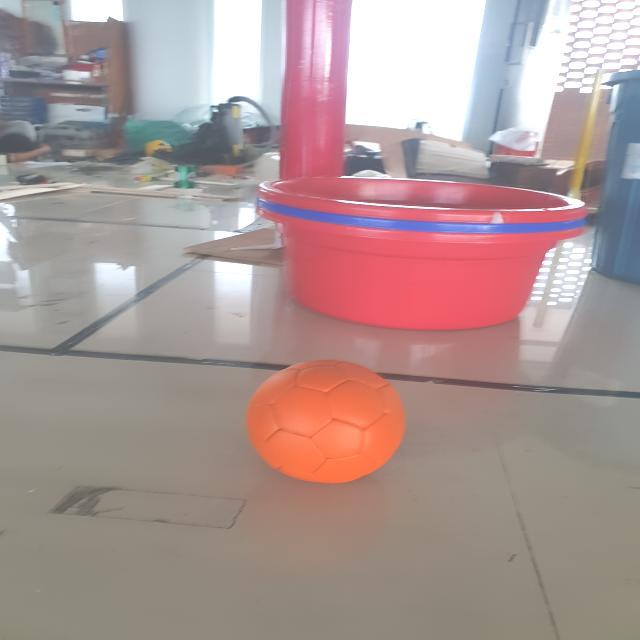bola: (240, 354, 410, 486)
